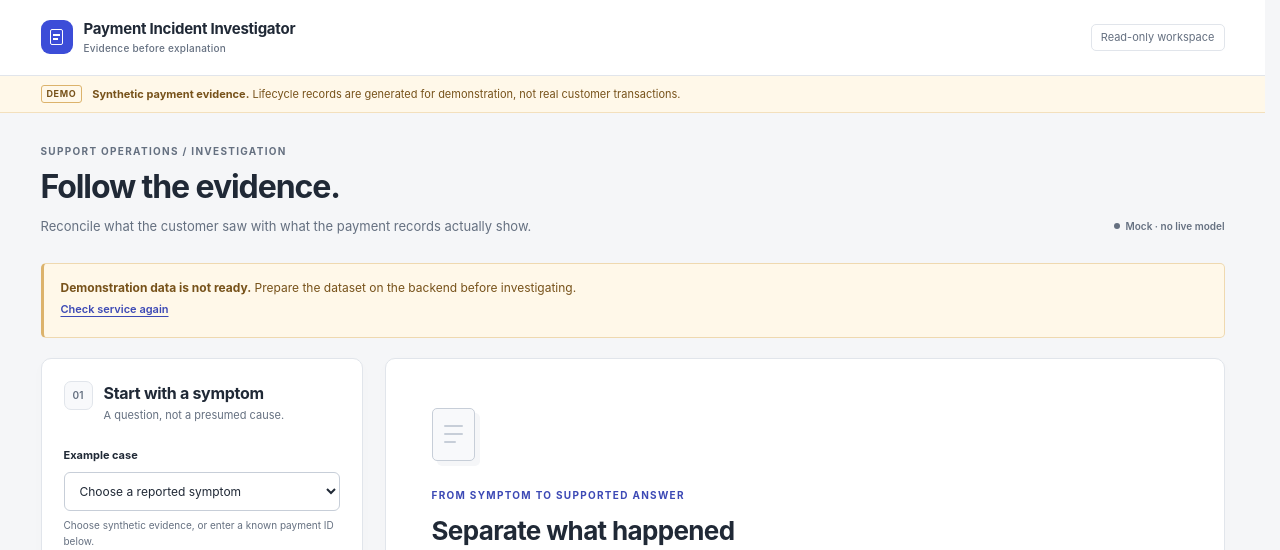
Test: investigation workspace (mocked API) › shows backend data-not-ready and supports rechecking it
Expected: the text "Demonstration data is not ready." is shown, [60,280,251,295]
Click the button "Check service again".
click(114, 310)  # box [60,297,168,322]
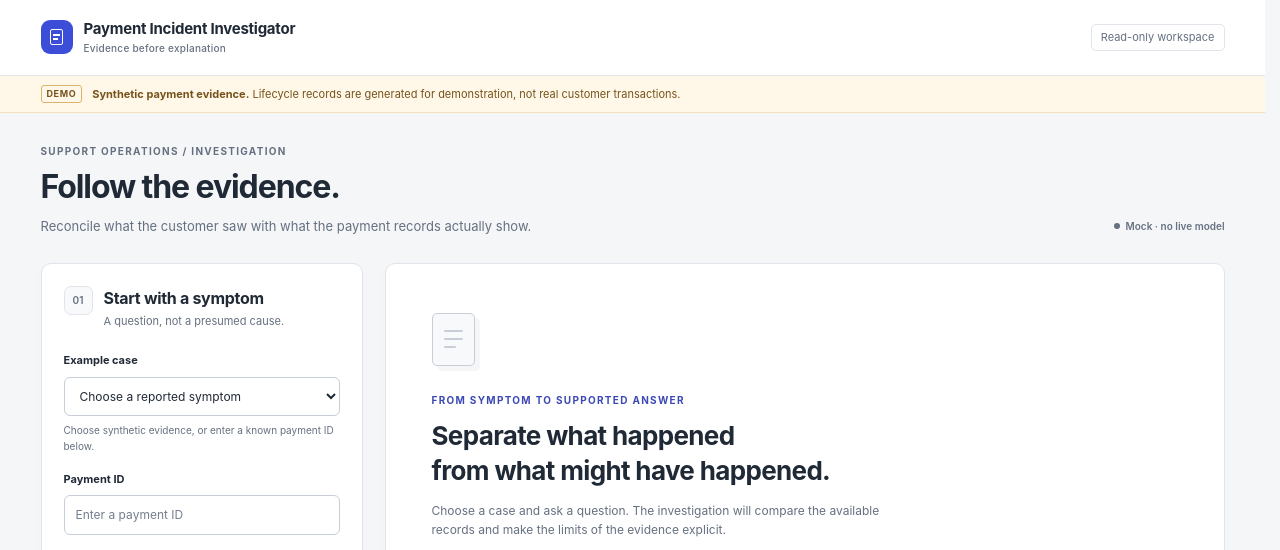
Expected: the text "Demonstration data is not ready." is gone
